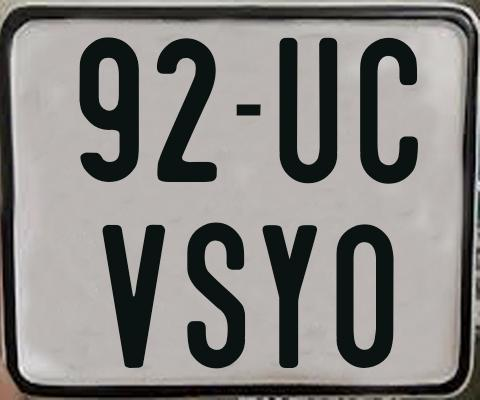0: (335, 223, 393, 371)
2: (155, 35, 218, 181)
9: (78, 37, 143, 186)
C: (360, 38, 419, 188)
S: (184, 221, 247, 373)
U: (277, 36, 335, 185)
V: (102, 223, 168, 368)
Y: (260, 222, 315, 368)
